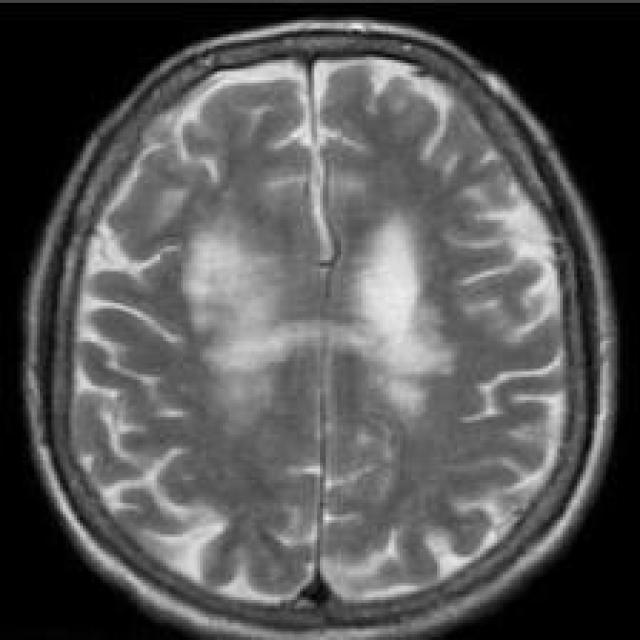no_tumor: (30, 13, 612, 640)
